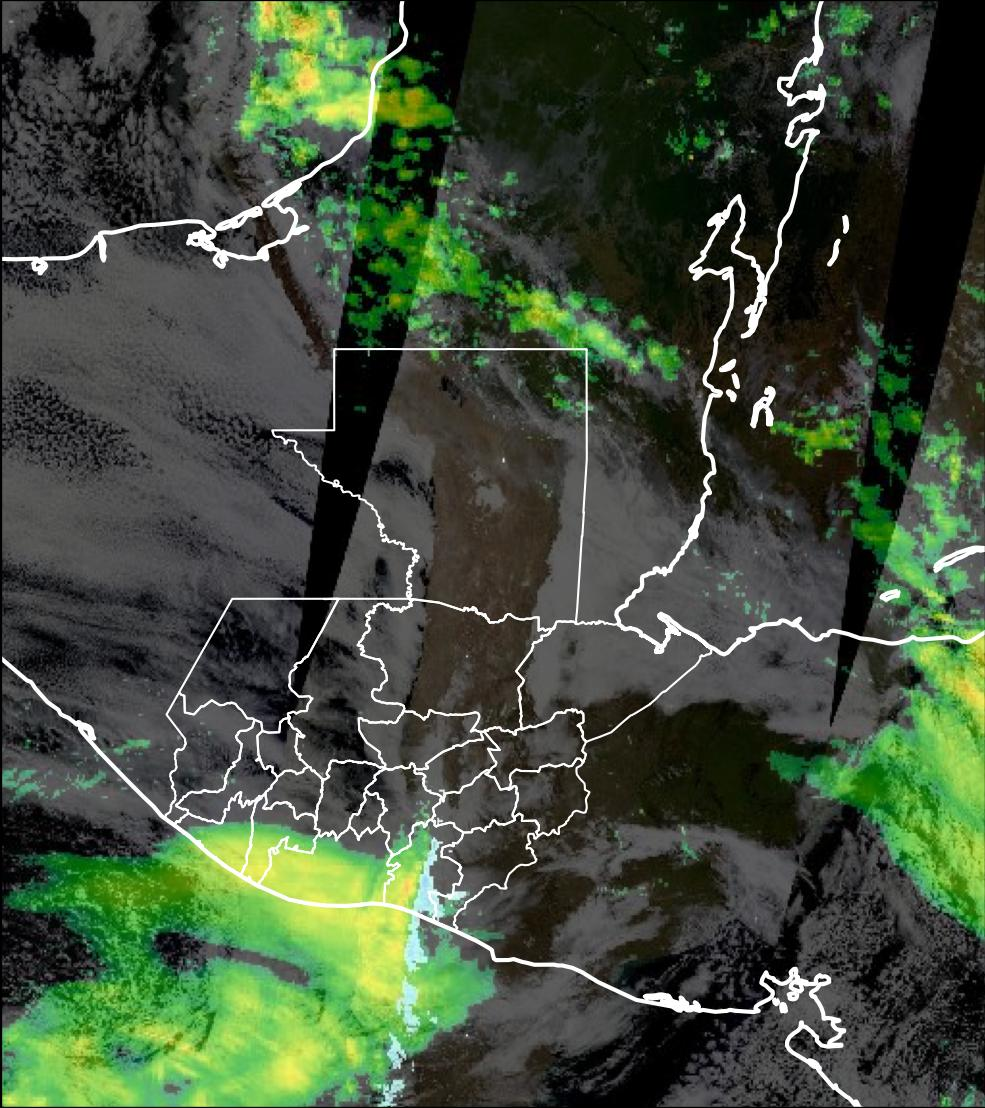precipitacion: (255, 51, 354, 106)
